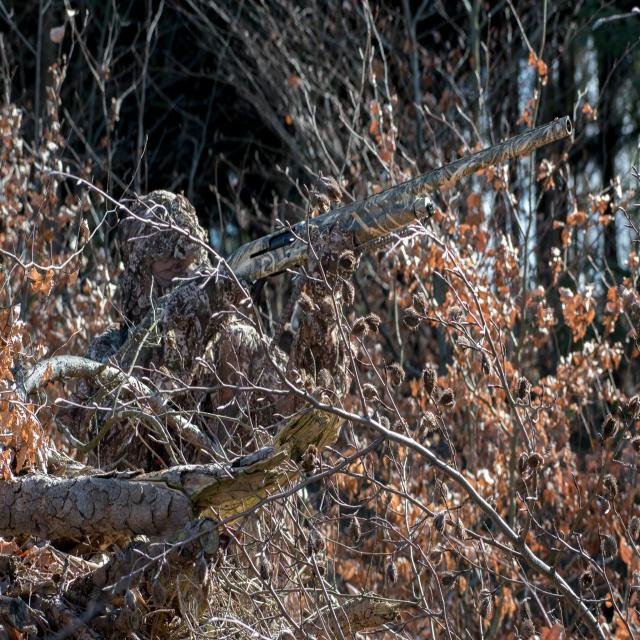Camouflage: (51, 112, 570, 470)
